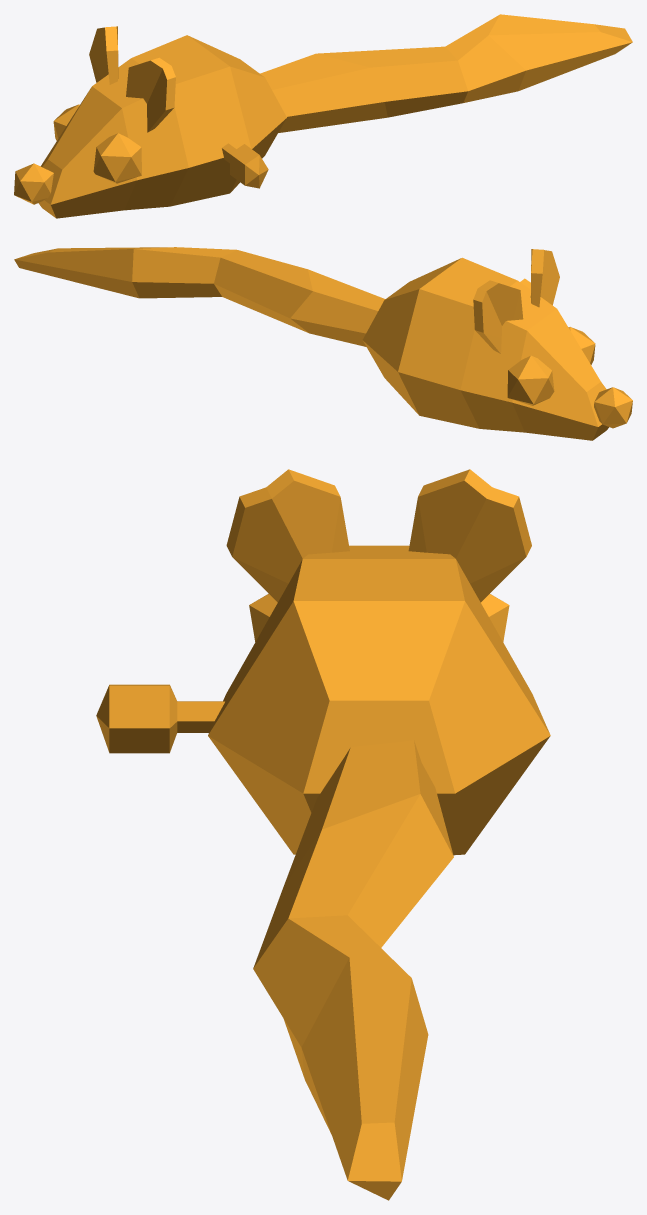
The model's file is SM_Toy_Mouse_A.fbx.
The picture shows the model from 3 angles, top to bottom: view 1: azimuth 30°, elevation 25°; view 2: azimuth 150°, elevation 25°; view 3: azimuth 270°, elevation 25°; orthographic projection. The views are drawn at different scales.
Visible parts, largest first — view 1: SM_Toy_Mouse_A; view 2: SM_Toy_Mouse_A; view 3: SM_Toy_Mouse_A.
Part boxes in pixels (x1,y1,x2,y2): SM_Toy_Mouse_A: (14, 14, 632, 218); SM_Toy_Mouse_A: (14, 247, 632, 440); SM_Toy_Mouse_A: (96, 469, 550, 1200).
Size of the model in its own units: 0.1819 by 0.0438 by 0.0586.
